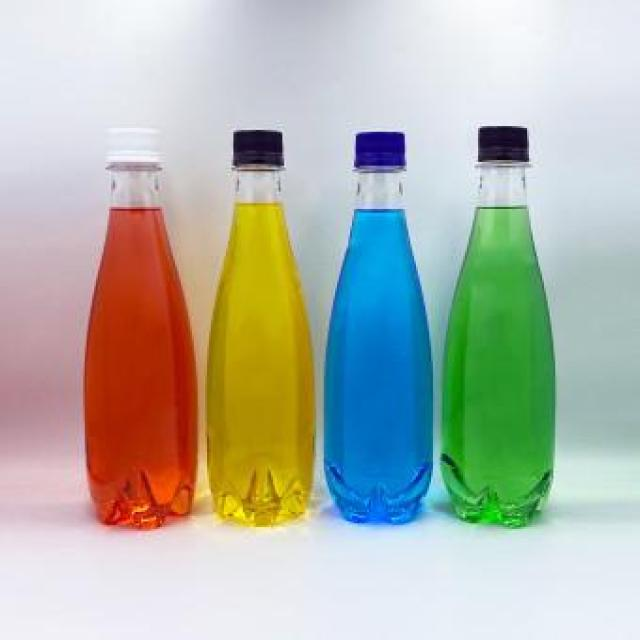bottle: (77, 121, 207, 534), (439, 126, 567, 525), (204, 122, 326, 520), (319, 125, 440, 515)
